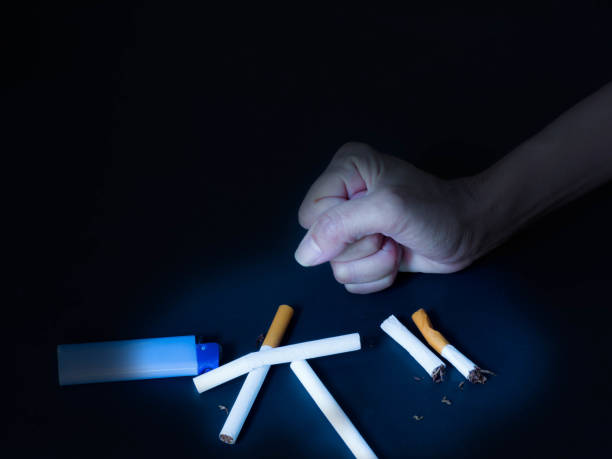cigarette: (218, 302, 295, 445), (193, 331, 362, 394), (288, 358, 379, 459), (410, 306, 484, 383), (380, 315, 446, 380)
